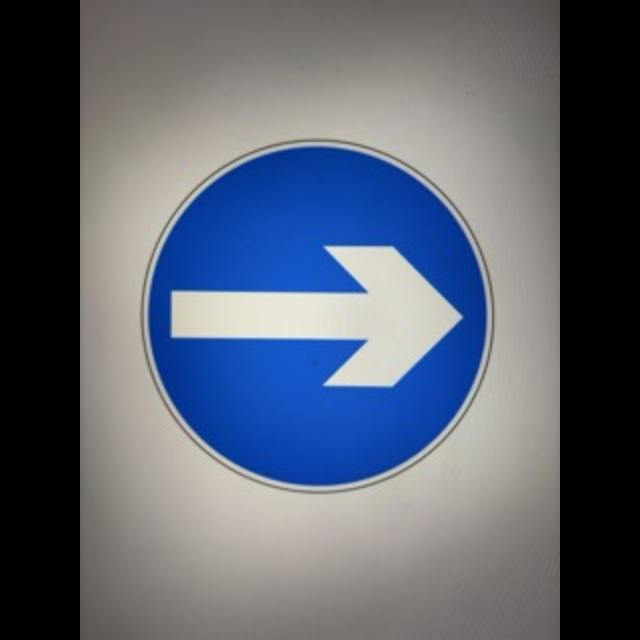TURN RIGHT: (138, 138, 494, 498)
